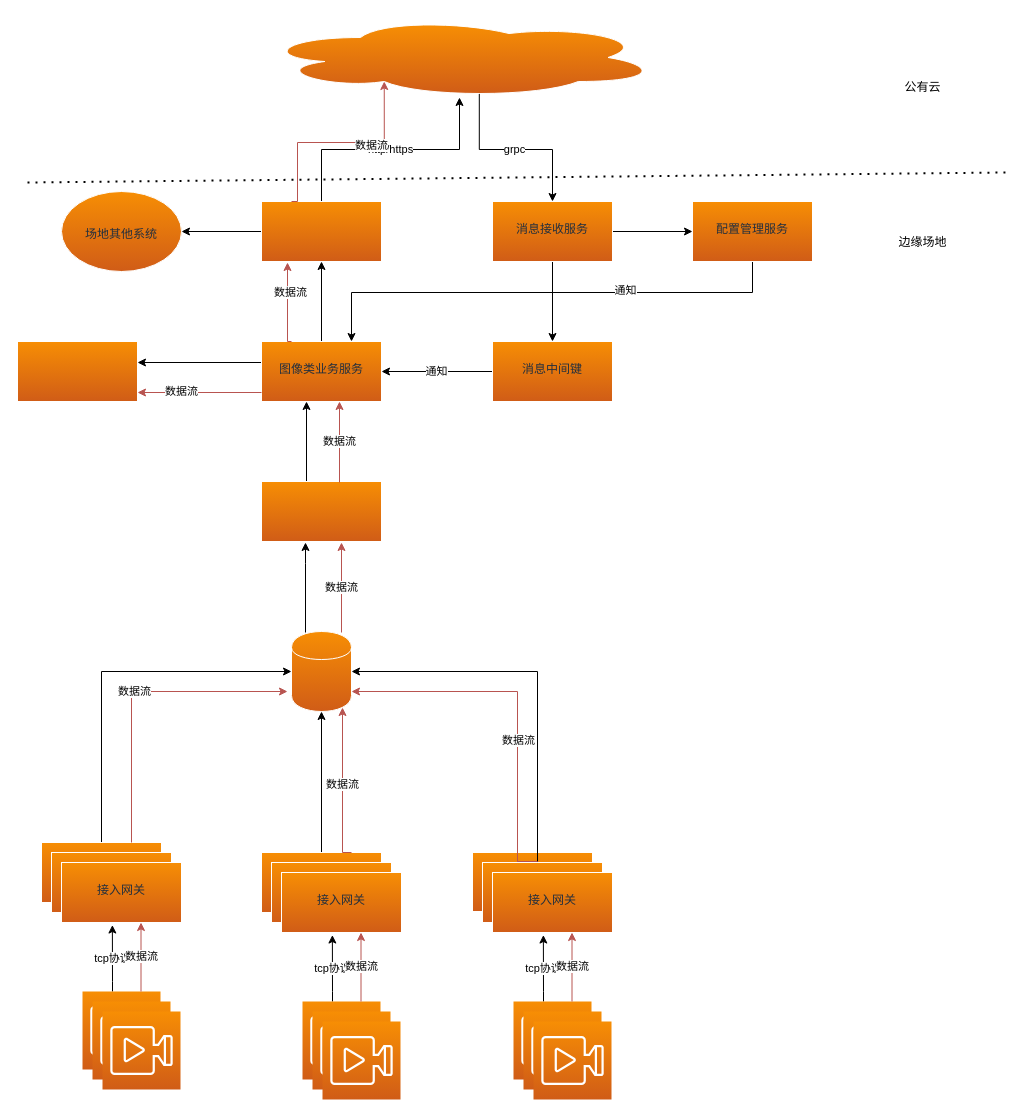
Some shapes in this 1027 by 1117 pixel diagram are drawn without their labels. Here are the shapes that lost their labels. From the top down, the centre of each, then its label:
At (x=459, y=57): "神瞳云平台".
At (x=321, y=231): "消息上报服务".
At (x=77, y=371): "算法推理服务".
At (x=321, y=511): "业务驱动服务".
